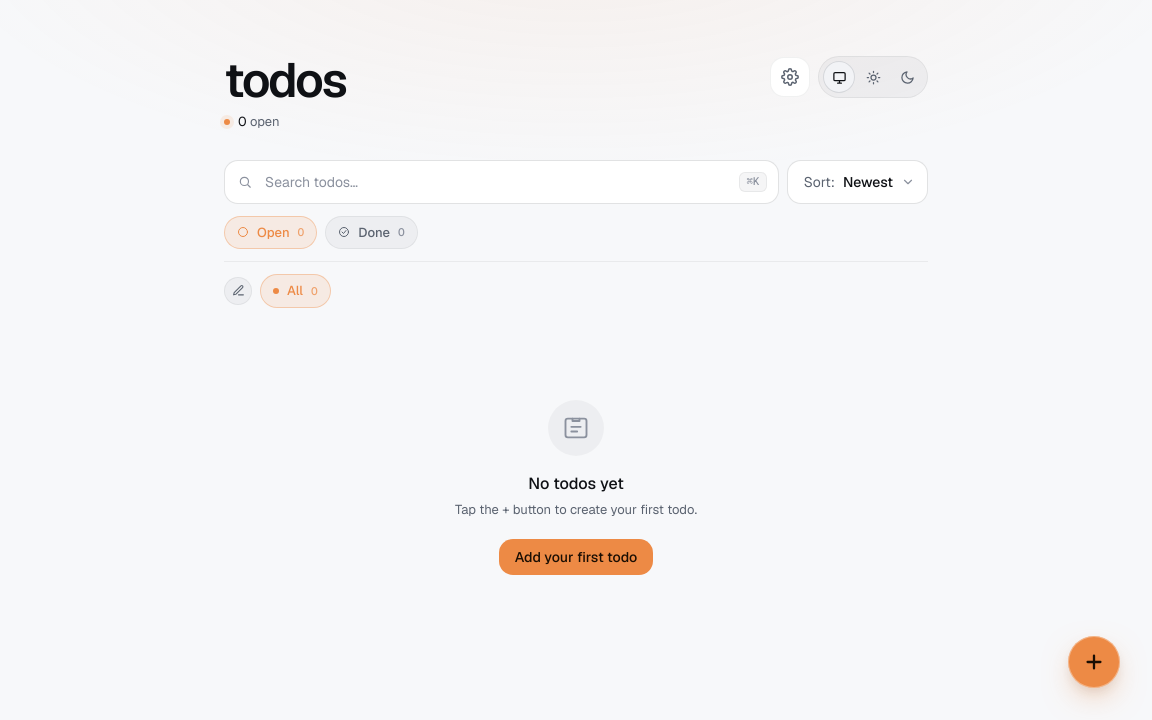
it: <TodoApp> — todo CRUD via the FAB and modal › creates a todo via the FAB → form → Add
This screenshot has width=1152, height=720.
Step 1. Click the button named "add todo" → (1094, 662), box [1068,636,1120,688]
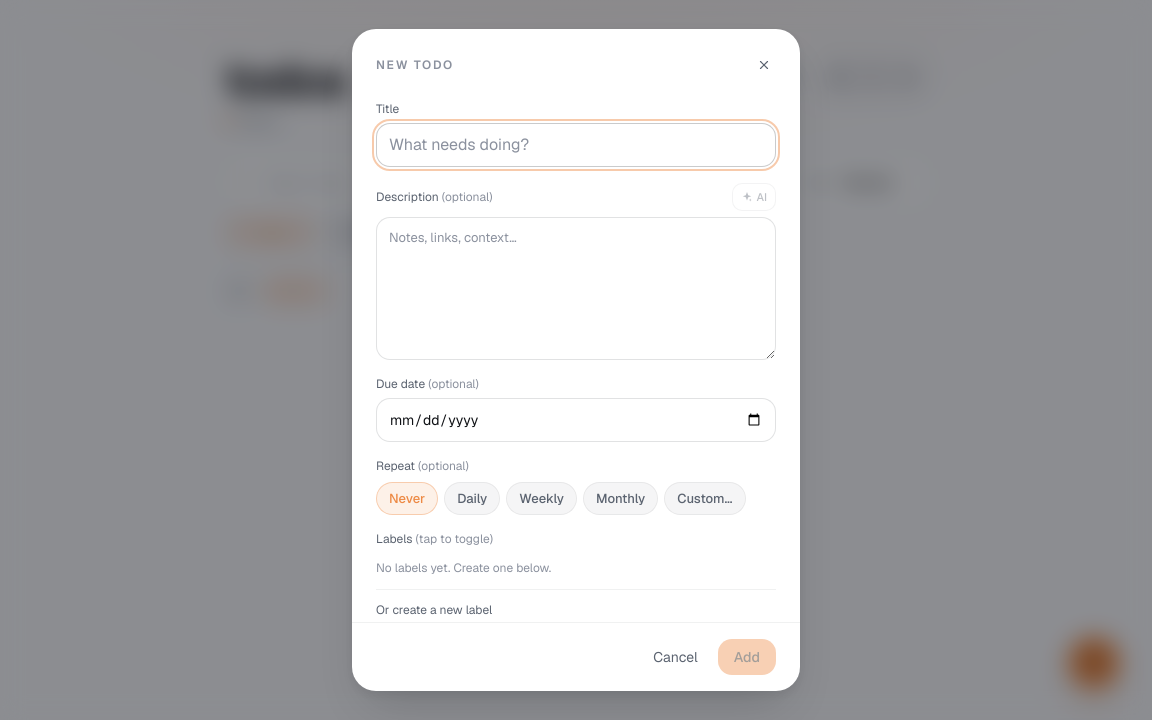
Step 2. Type "Read book" into the field with placeholder "What needs doing?" → (576, 145), box [376,123,776,167]
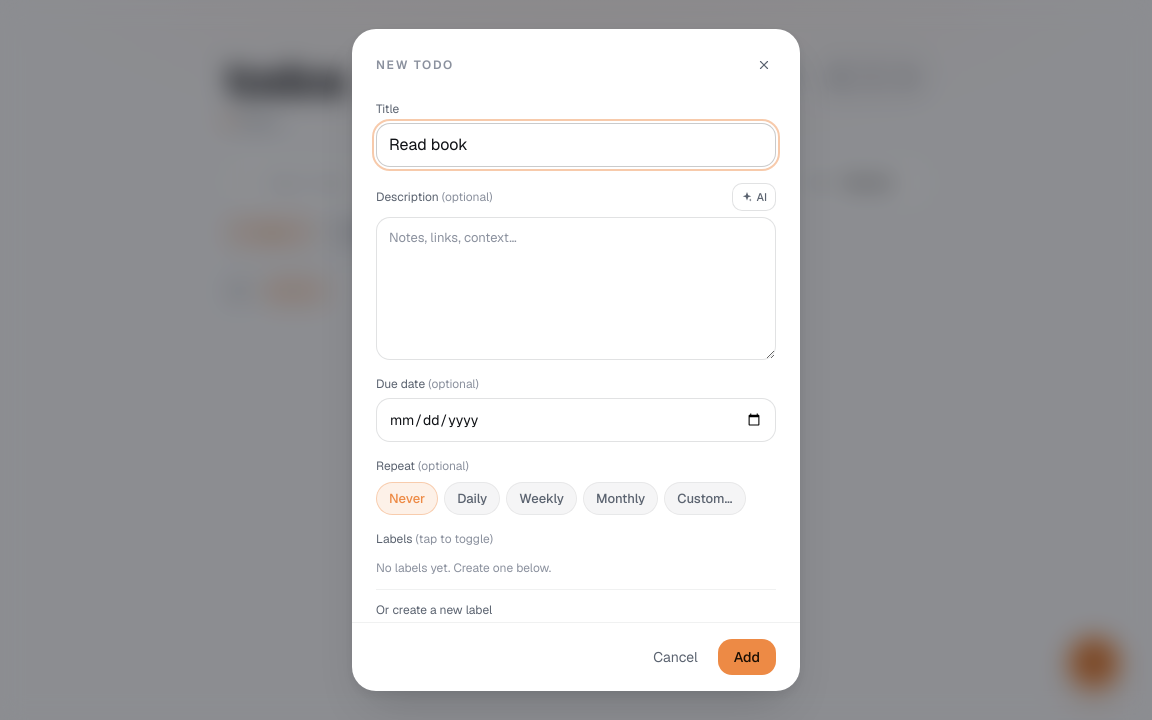
Step 3. Click the button "Add" → (747, 657), box [718,639,776,675]
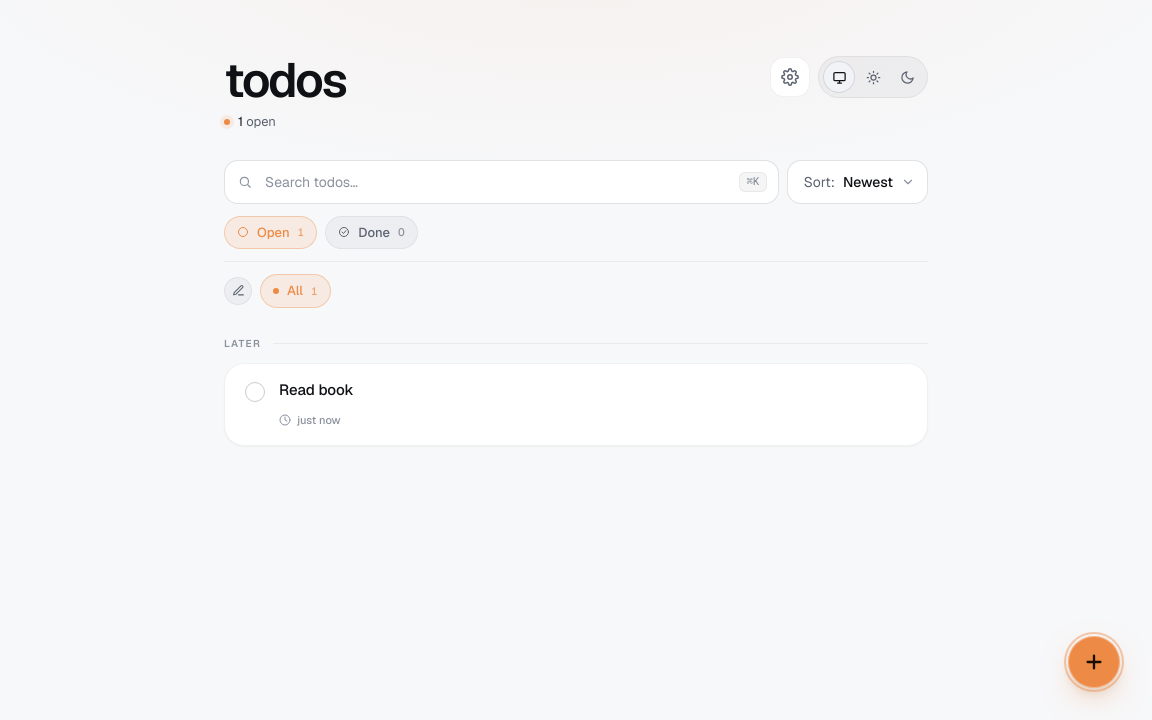
Expected: the text "Read book" is shown, [279,380,354,400]
